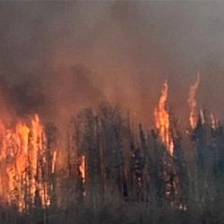fire: (148, 80, 206, 169), (1, 119, 54, 208)
